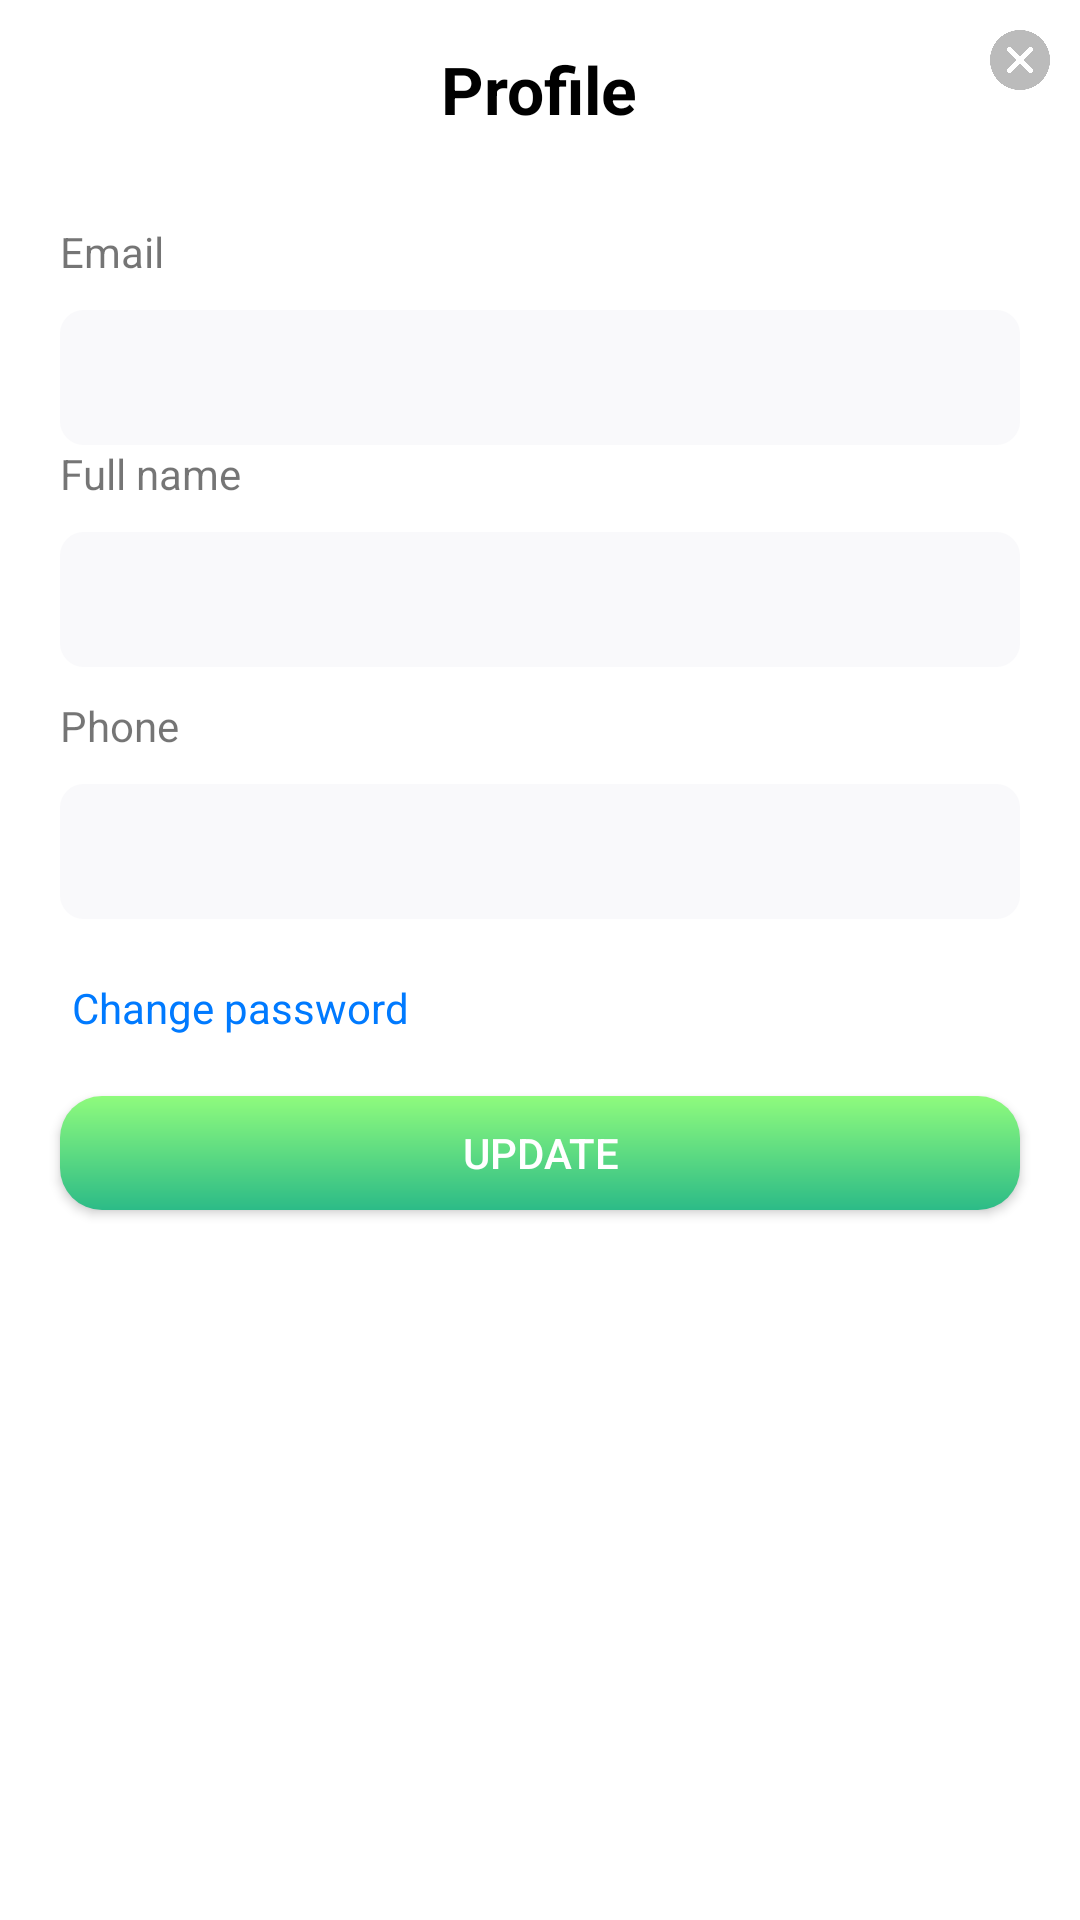

Icon bounding boxes for this 1080x1920 phone screenshot, format (x1, y1, x2, y2):
cancel: (990, 30, 1050, 90)
